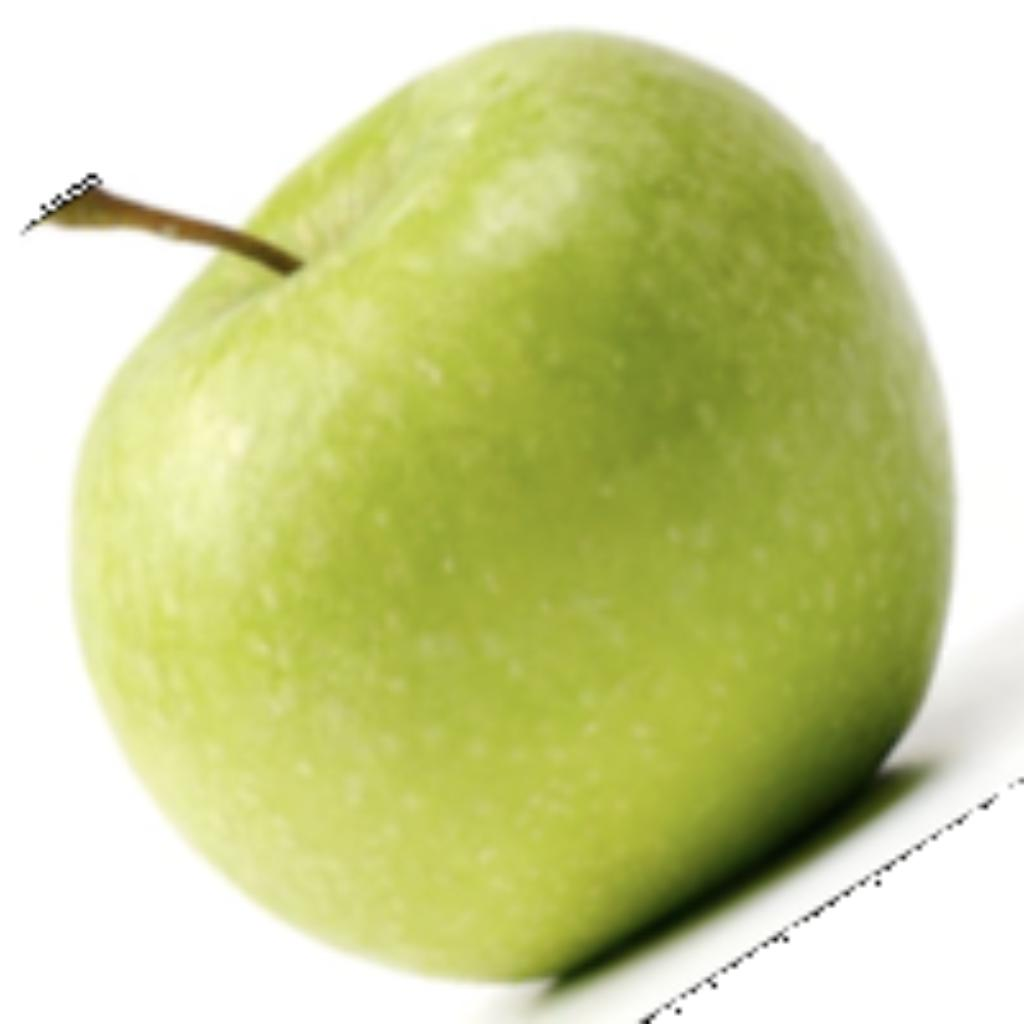apple: (15, 20, 1019, 1019)
